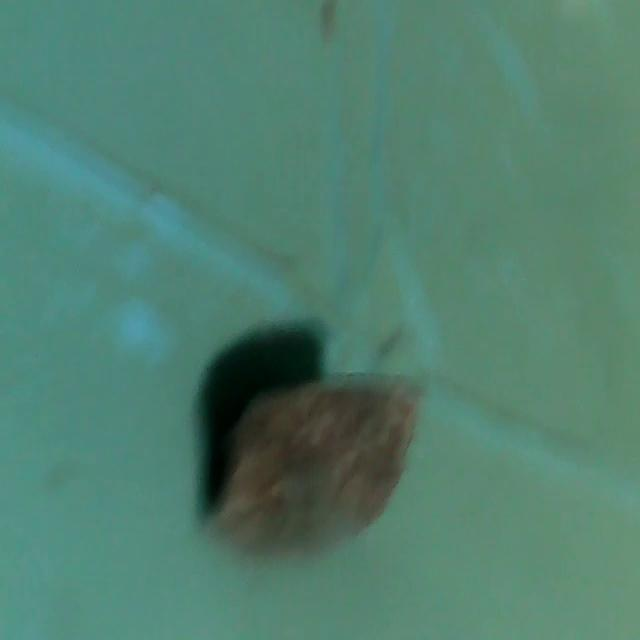rock: (202, 362, 425, 562)
